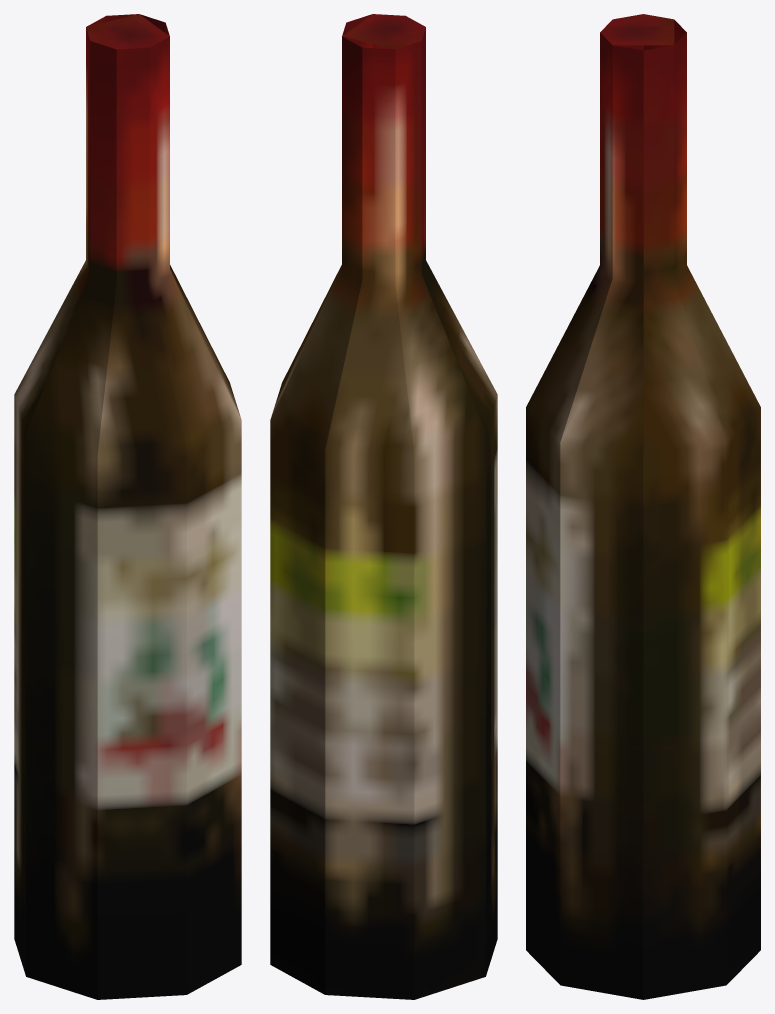
File: booze1.fbx
The picture shows the model from 3 angles, left to right: view 1: azimuth 30°, elevation 25°; view 2: azimuth 150°, elevation 25°; view 3: azimuth 270°, elevation 25°; orthographic projection.
Visible parts, largest first — view 1: mesh_0; view 2: mesh_0; view 3: mesh_0.
Boxes of the visible parts, x1,y1,x2,y2 form: mesh_0: [14, 14, 241, 999]; mesh_0: [270, 14, 497, 999]; mesh_0: [526, 14, 760, 999].
Size of the model in its own units: 8.65 by 37.31 by 8.65.
Materials: 1 (1 with a texture image).
